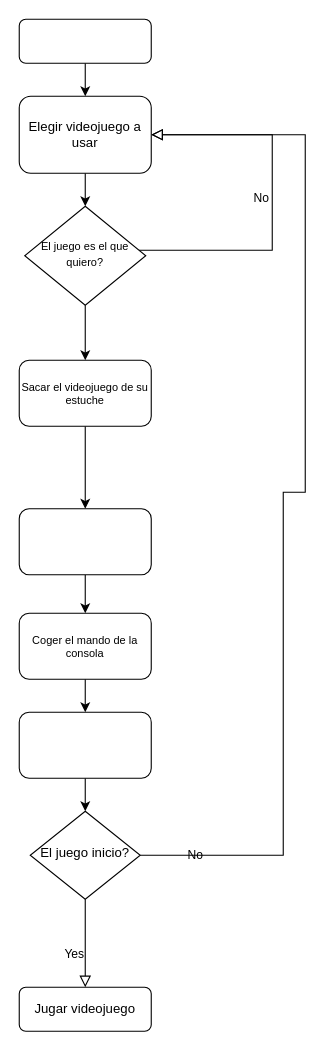
Image size: 336x1051. Some labels were removed from this diagram. The centre of each missing label's shape, as x and y in pixels:
Coger la consola: (x=84, y=40)
Insertar el juego en la lectora de DVD: (x=84, y=541)
Seleccionar "Iniciar juego": (x=84, y=744)
